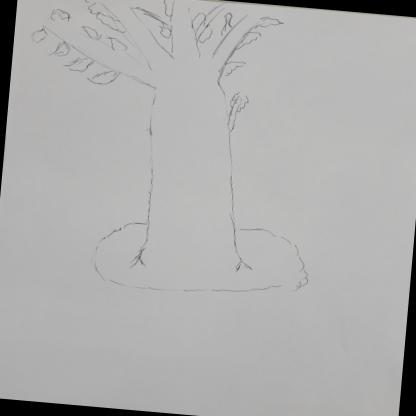branch_line: (25, 0, 289, 109)
trunk_straight: (132, 112, 252, 223)
